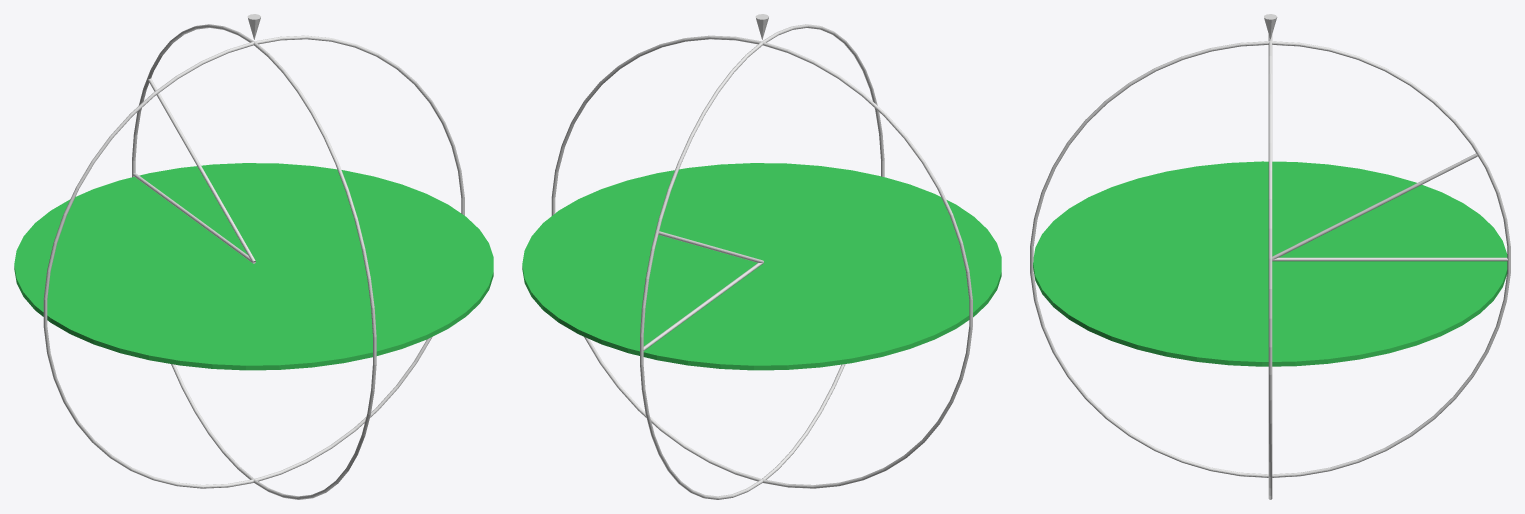
File: circleEmbedBuffer.gltf
3 views of the same model, side by side, from view 1: azimuth 30°, elevation 25°; view 2: azimuth 150°, elevation 25°; view 3: azimuth 270°, elevation 25° (orthographic).
Parts seen in each view (by area): view 1: Cylinder.002, Torus.000, Torus.004, Cylinder.001, Cylinder; view 2: Cylinder.002, Torus.000, Torus.004, Cylinder; view 3: Cylinder.002, Torus.004, Torus.000, Cylinder, Cylinder.001.
Part boxes in pixels (x1,y1,x2,y2): Cylinder.002: (14,163,493,370); Torus.000: (43,35,464,488); Torus.004: (132,24,376,499); Cylinder.001: (148,78,255,262); Cylinder: (132,173,255,263); Cylinder.002: (522,163,1001,370); Torus.000: (551,35,972,488); Torus.004: (640,24,884,499); Cylinder: (643,262,763,350); Cylinder.002: (1033,161,1507,366); Torus.004: (1030,41,1510,477); Torus.000: (1268,34,1272,499); Cylinder: (1272,257,1507,261); Cylinder.001: (1272,153,1477,259).
Bounding box in the file's own units: 13.07 × 13.83 × 13.07.
